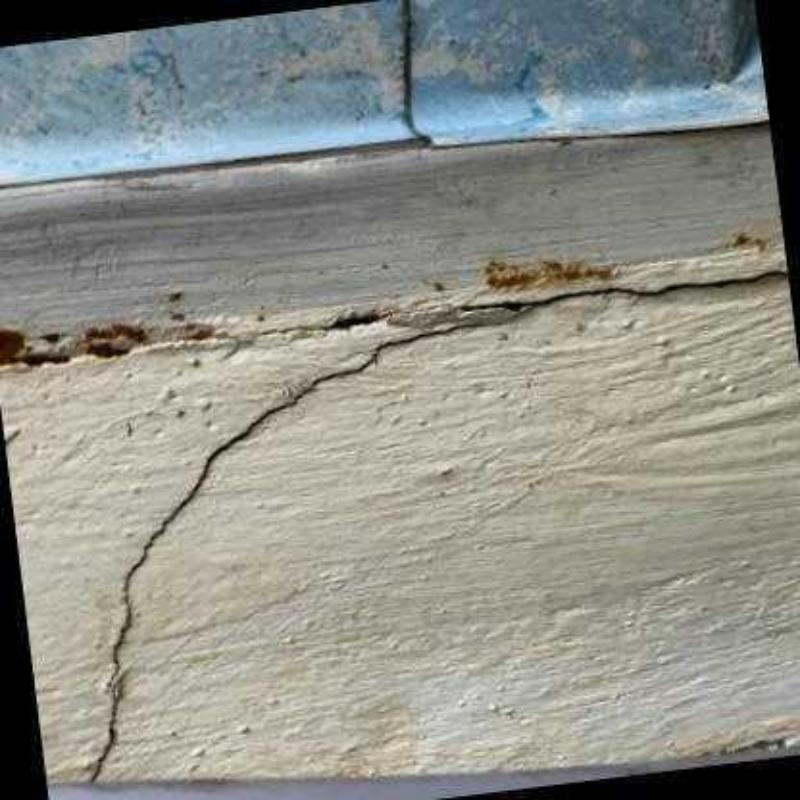pothole: (83, 320, 496, 782), (451, 267, 788, 312)
